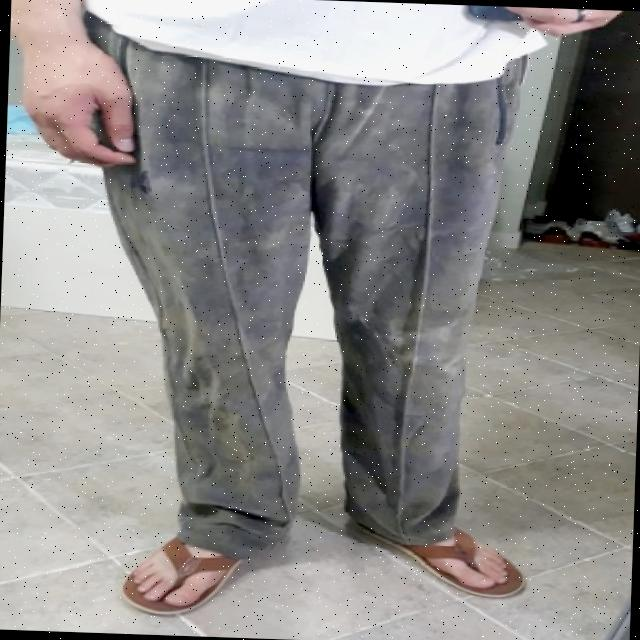no-boots: (78, 513, 278, 634), (348, 520, 554, 620)
